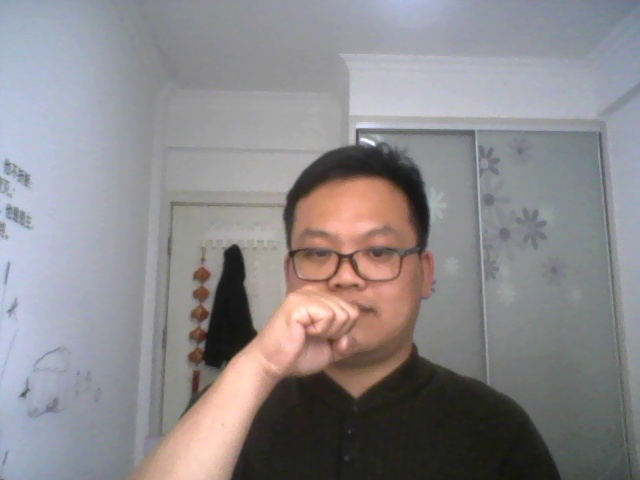Yes: (250, 274, 366, 387)
